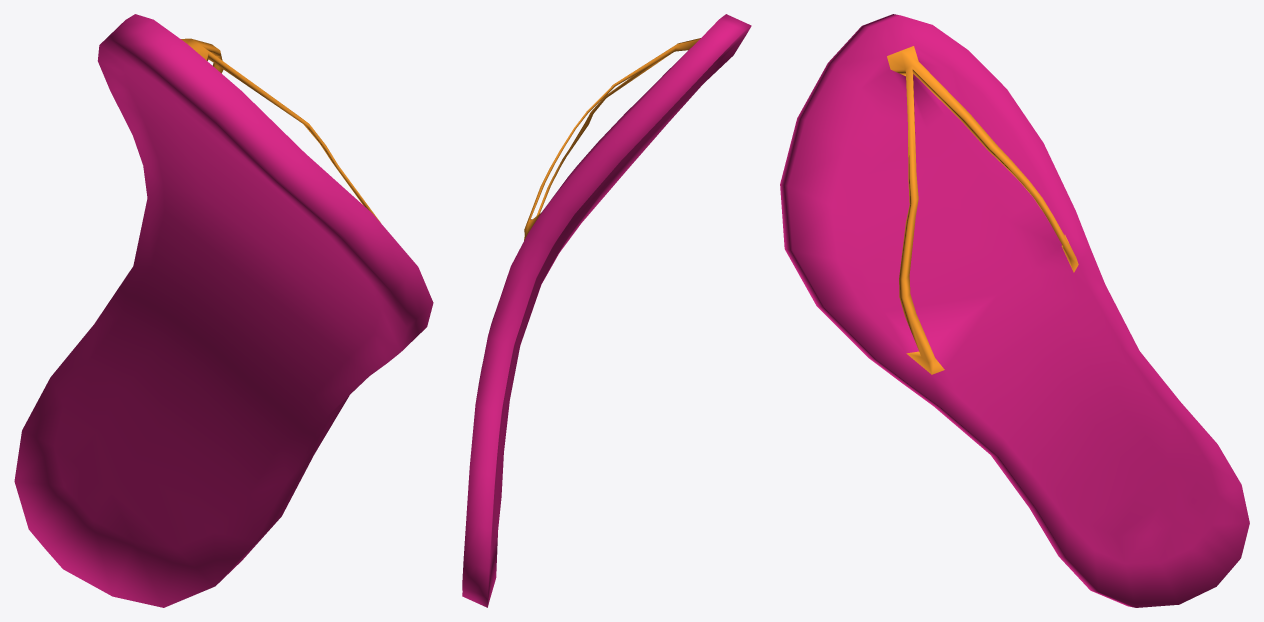
Rendered from ChanclaR.fbx.
The picture shows the model from 3 angles, left to right: view 1: azimuth 30°, elevation 25°; view 2: azimuth 150°, elevation 25°; view 3: azimuth 270°, elevation 25°; orthographic projection. The views are drawn at different scales.
Visible parts, largest first — view 1: Chancla_R; view 2: Chancla_R; view 3: Chancla_R.
Part boxes in pixels (bbox=[...]): Chancla_R: bbox=[14, 14, 433, 607]; Chancla_R: bbox=[462, 14, 751, 607]; Chancla_R: bbox=[780, 14, 1249, 607].
Size of the model in its own units: 24.16 by 57.48 by 45.65.
